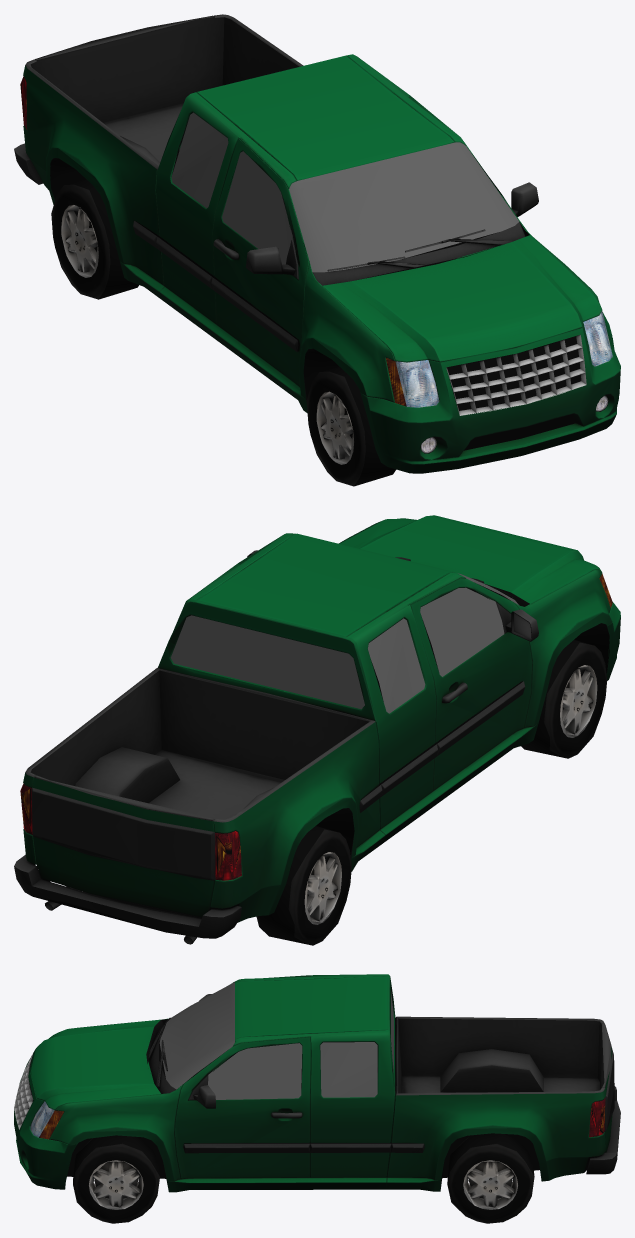
The model's file is Pickup.glb.
3 renders of one model, top to bottom at view 1: azimuth 30°, elevation 25°; view 2: azimuth 150°, elevation 25°; view 3: azimuth 270°, elevation 25°, orthographic. The views are drawn at different scales.
Visible parts, largest first — view 1: Pickup Body, Wheel_E002, Wheel_E003; view 2: Pickup Body, Wheel_E003, Wheel_E002; view 3: Pickup Body, Wheel_E001, Wheel_E.
Part boxes in pixels (x1=…): Pickup Body: x1=14, y1=14, x2=620, y2=473; Wheel_E002: x1=306, y1=367, x2=396, y2=486; Wheel_E003: x1=51, y1=179, x2=138, y2=299; Pickup Body: x1=14, y1=515, x2=620, y2=944; Wheel_E003: x1=256, y1=826, x2=351, y2=945; Wheel_E002: x1=521, y1=640, x2=607, y2=758; Pickup Body: x1=14, y1=974, x2=620, y2=1192; Wheel_E001: x1=447, y1=1133, x2=534, y2=1223; Wheel_E: x1=73, y1=1135, x2=159, y2=1223.
Size of the model in its own units: 2.33 by 1.89 by 5.83.
Materials: 4 (3 with a texture image).
